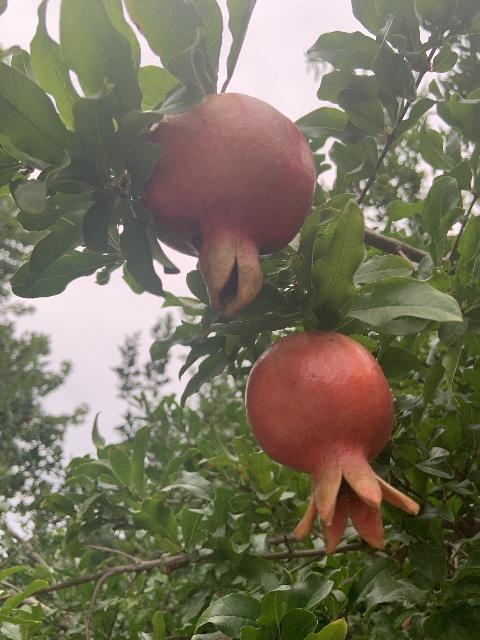ripe: (244, 329, 420, 555), (142, 93, 316, 316)
